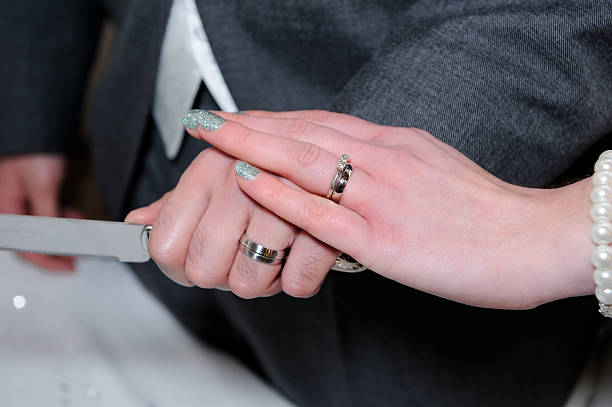knife: (0, 213, 368, 273)
